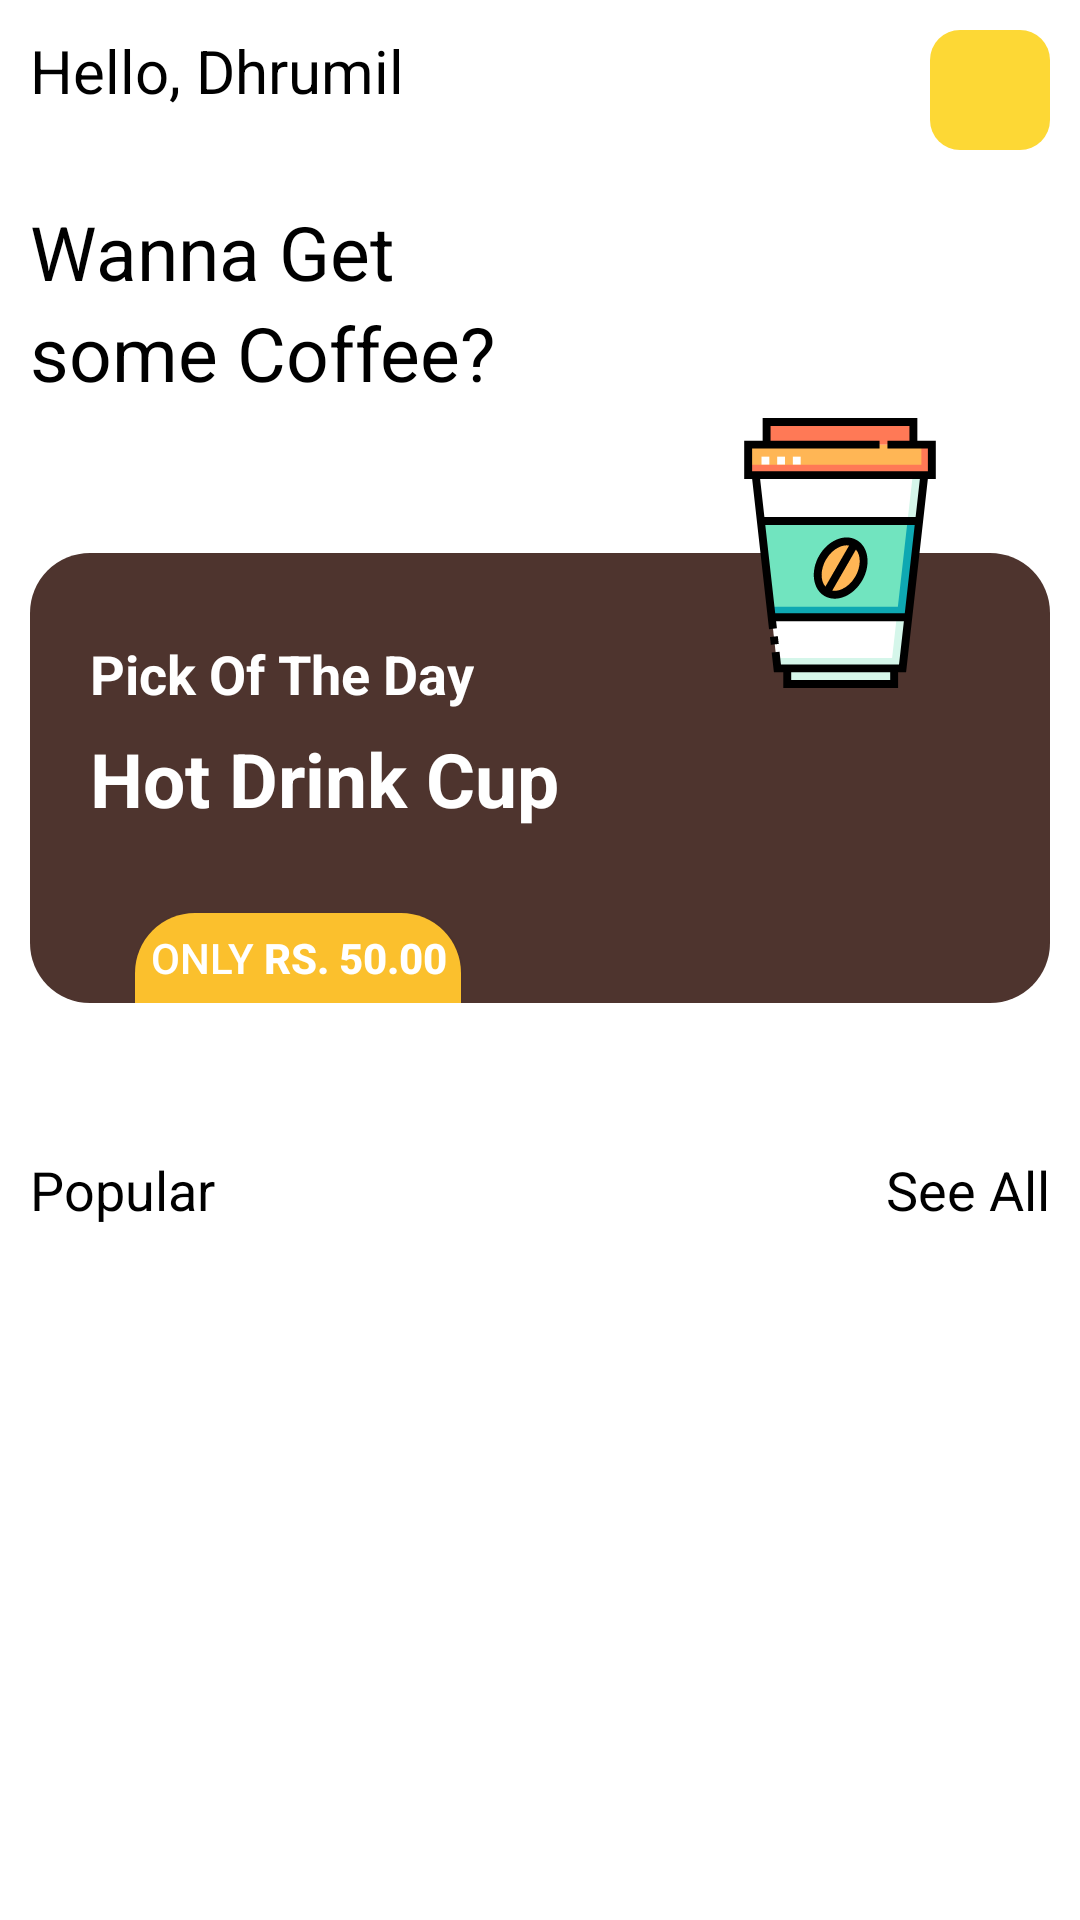

Point at icon controls on the screen. Image size 1080px x 1920px, points as (x=x, y=y).
coffee: (x=840, y=553)
